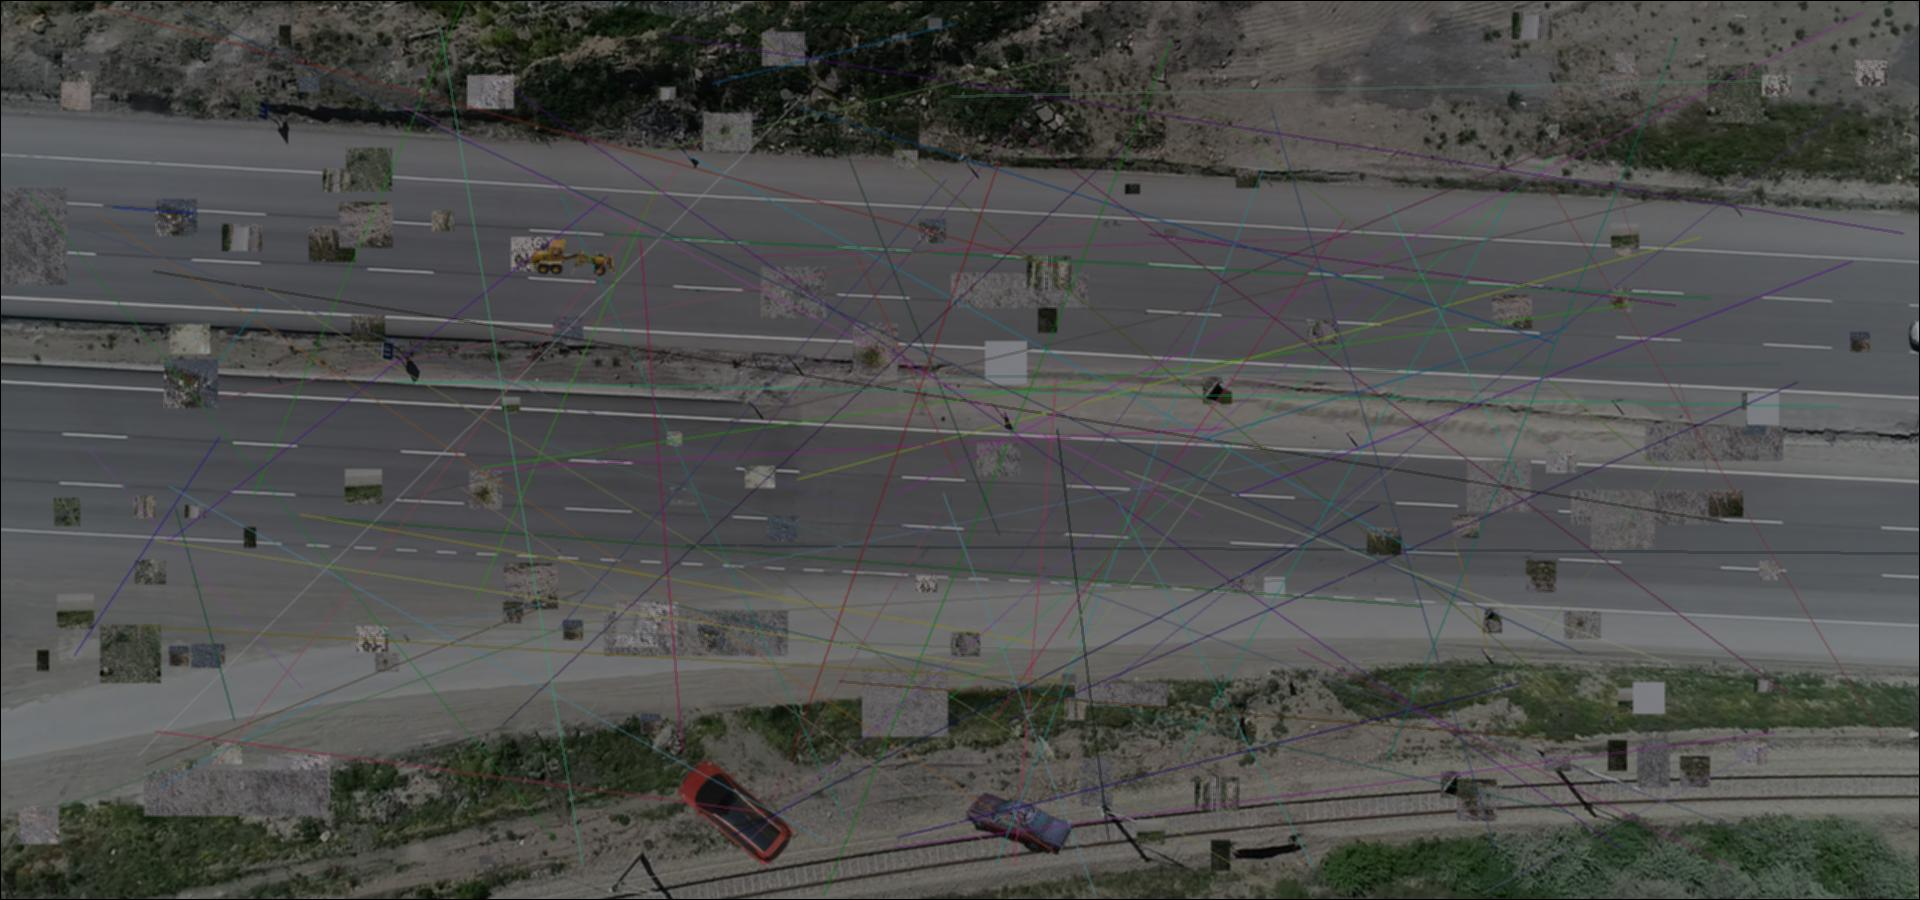arac: (673, 758, 797, 866), (965, 789, 1075, 855), (527, 238, 616, 277)
